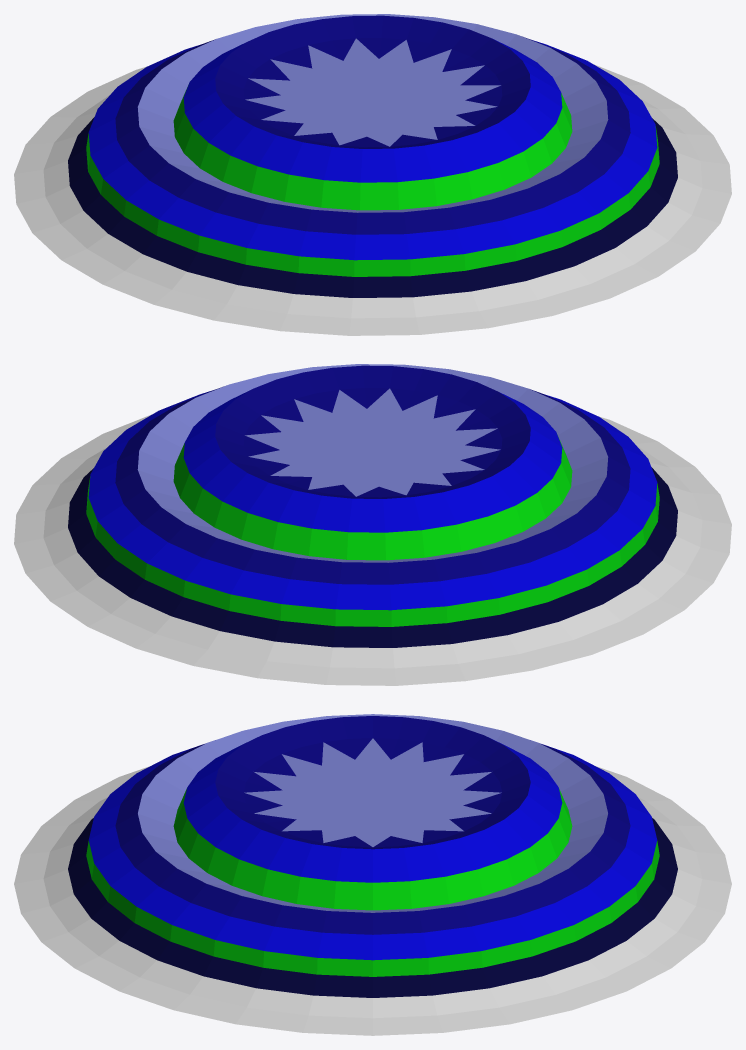
The model's file is Stand.fbx.
3 renders of one model, top to bottom at view 1: azimuth 30°, elevation 25°; view 2: azimuth 150°, elevation 25°; view 3: azimuth 270°, elevation 25°, orthographic.
Parts seen in each view (by area): view 1: Cylinder.001, Cylinder.005; view 2: Cylinder.001, Cylinder.005; view 3: Cylinder.001, Cylinder.005.
Part boxes in pixels (box(x1,y1,x2,y2)): Cylinder.001: box(14, 14, 731, 335); Cylinder.005: box(173, 15, 572, 210); Cylinder.001: box(14, 364, 731, 685); Cylinder.005: box(173, 365, 572, 560); Cylinder.001: box(14, 714, 731, 1035); Cylinder.005: box(173, 716, 572, 910).
Bounding box in the file's own units: 1.27 × 0.1985 × 1.27.
